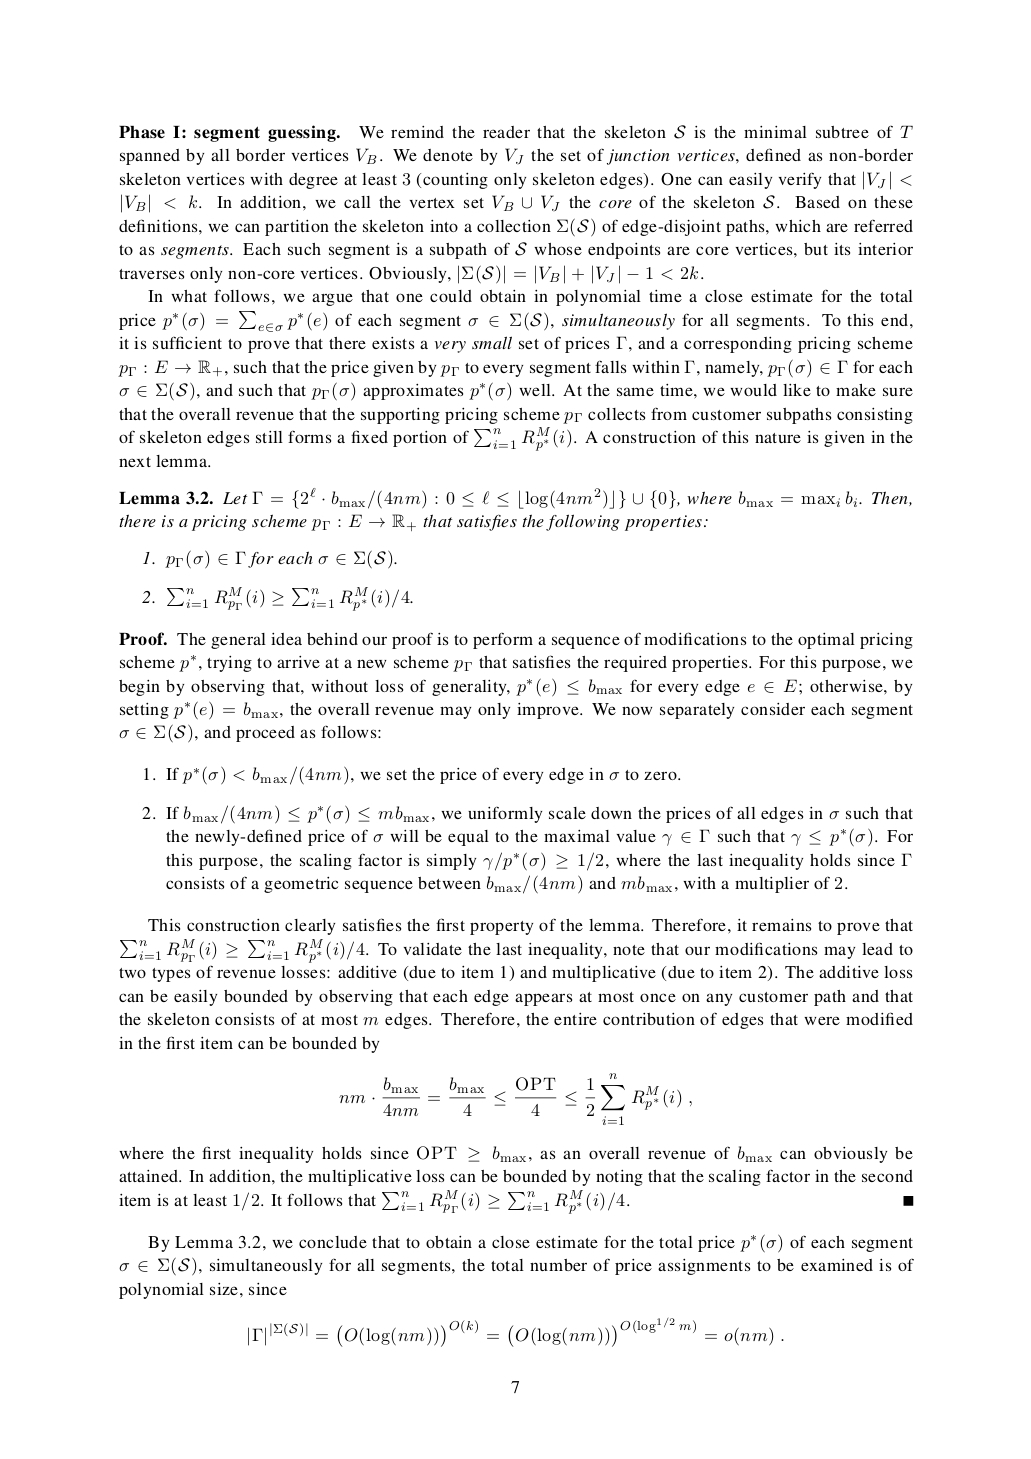formula: (339, 1072, 691, 1125), (248, 1316, 783, 1347), (142, 584, 412, 611), (143, 549, 396, 569)
